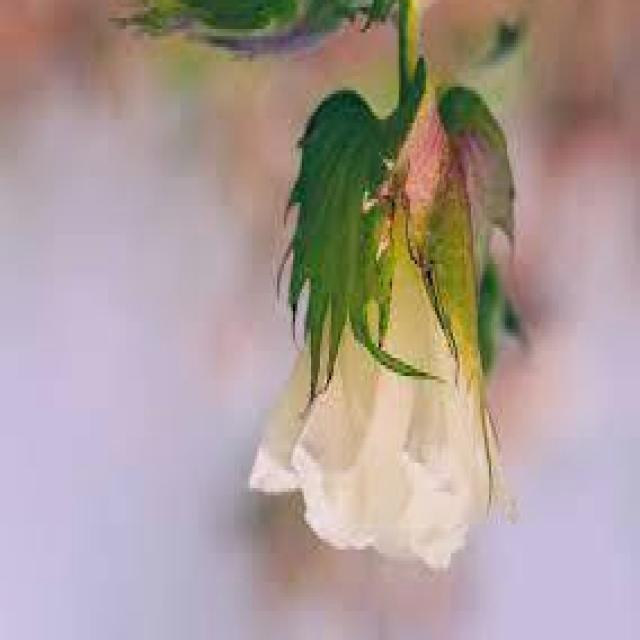Cotton Blossom: (262, 80, 522, 562)
